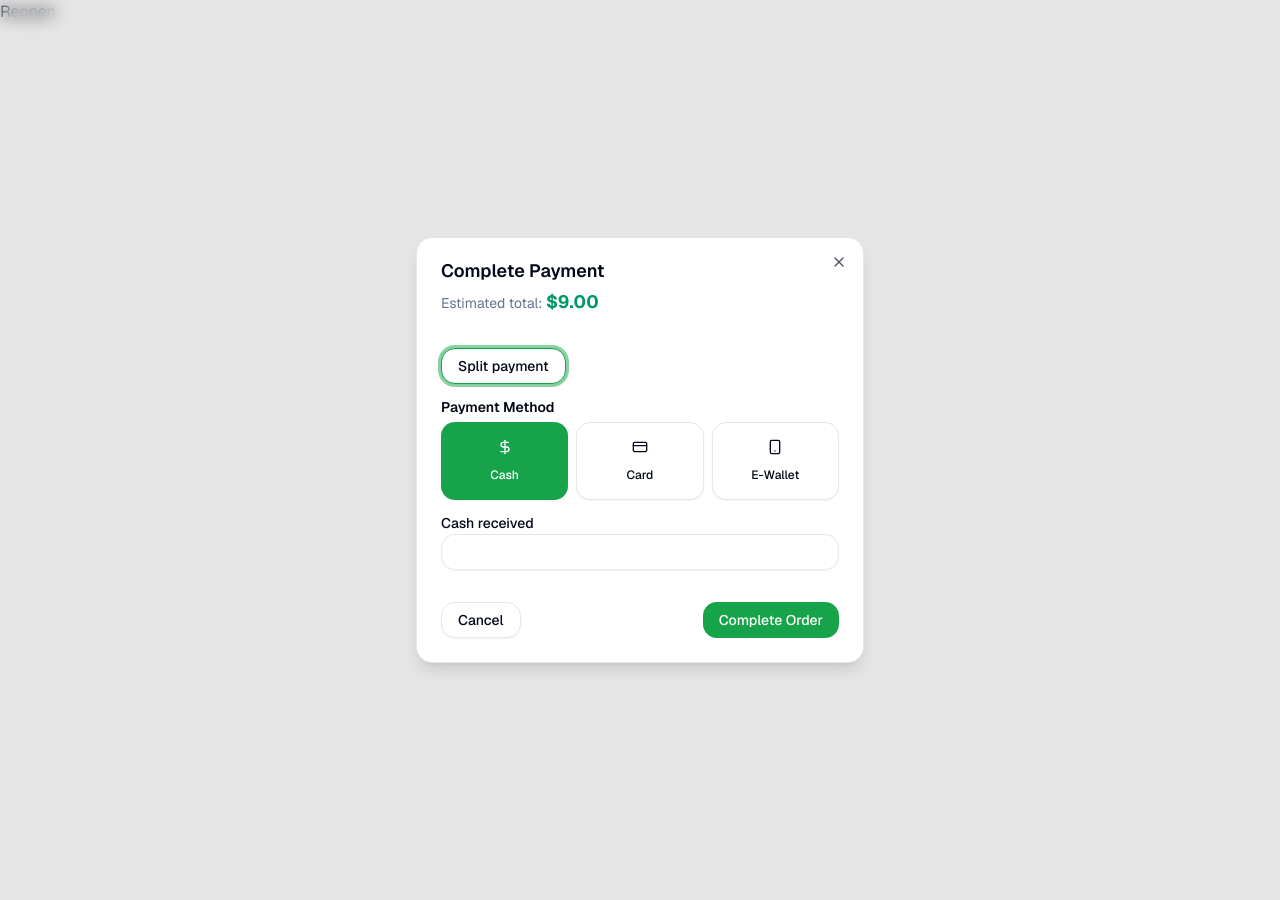
Test case: PaymentDialog — cash change/short › shows "Sin cambio" wording ("No change") when received matches the amount due exactly
Type "9" into the field labelled "Cash received" at (640, 552), box [441,534,839,570]
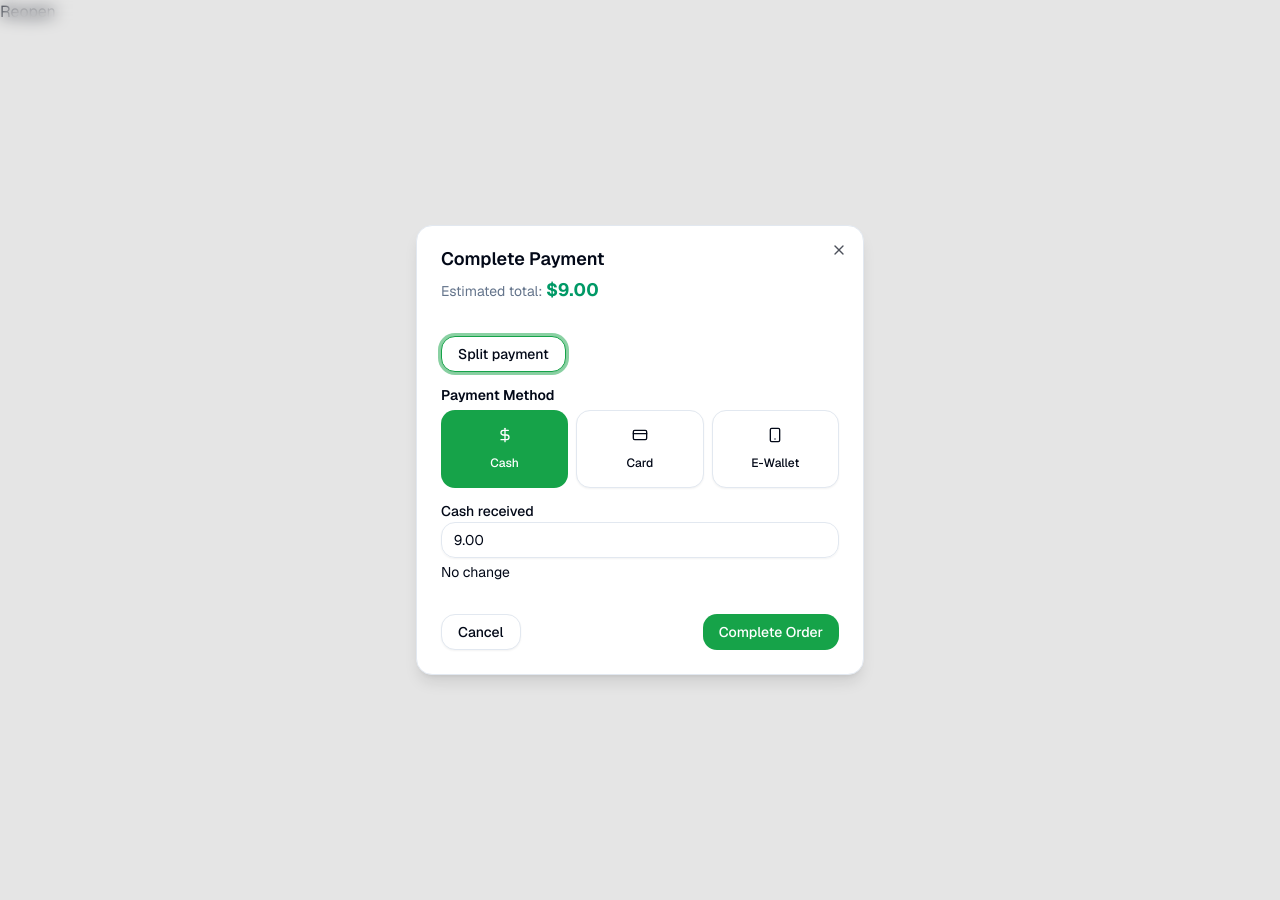
Expected: the text "No change" is shown, [441,563,510,581]
